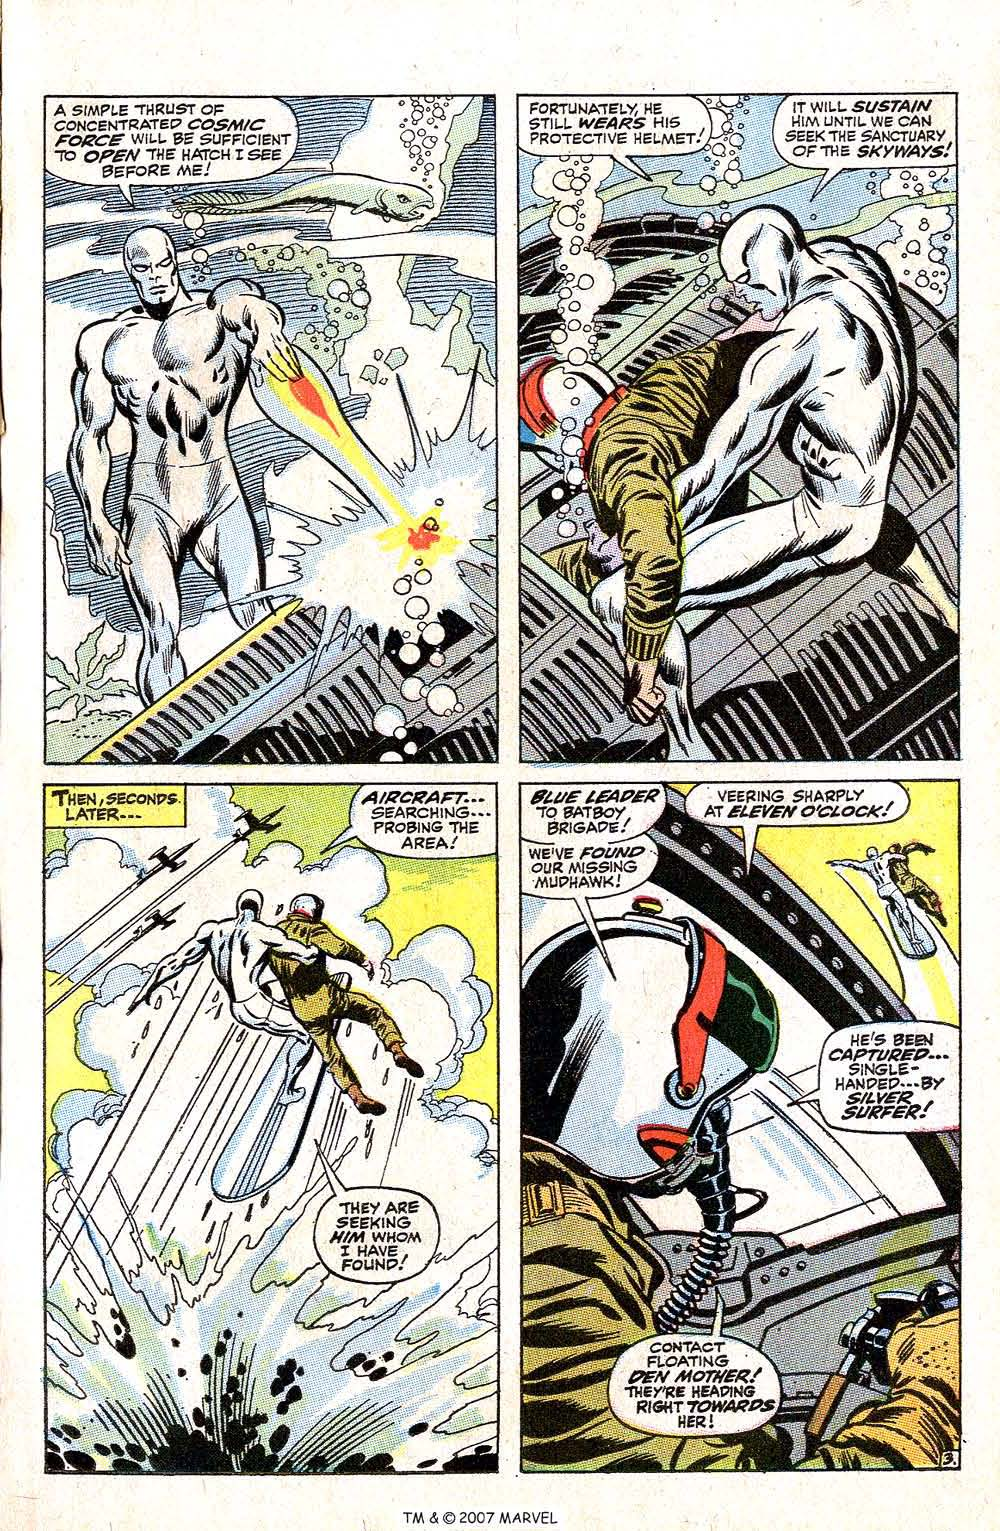Baloon: (45, 95, 299, 209), (520, 786, 657, 935), (610, 1330, 778, 1442), (808, 1023, 967, 1130), (769, 93, 956, 183), (317, 1162, 443, 1293), (513, 88, 713, 168), (689, 781, 910, 835), (350, 779, 499, 855), (44, 788, 185, 828)
Vignetta: (45, 783, 499, 1474), (520, 783, 964, 1476), (44, 97, 494, 765), (520, 90, 964, 767)
